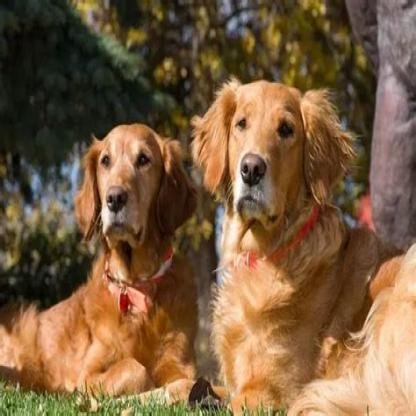dog: (189, 91, 416, 415), (3, 120, 188, 396)
